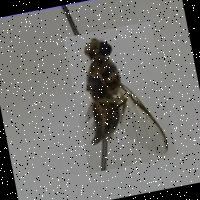Oriental-fruit-fly: (63, 21, 176, 174)
